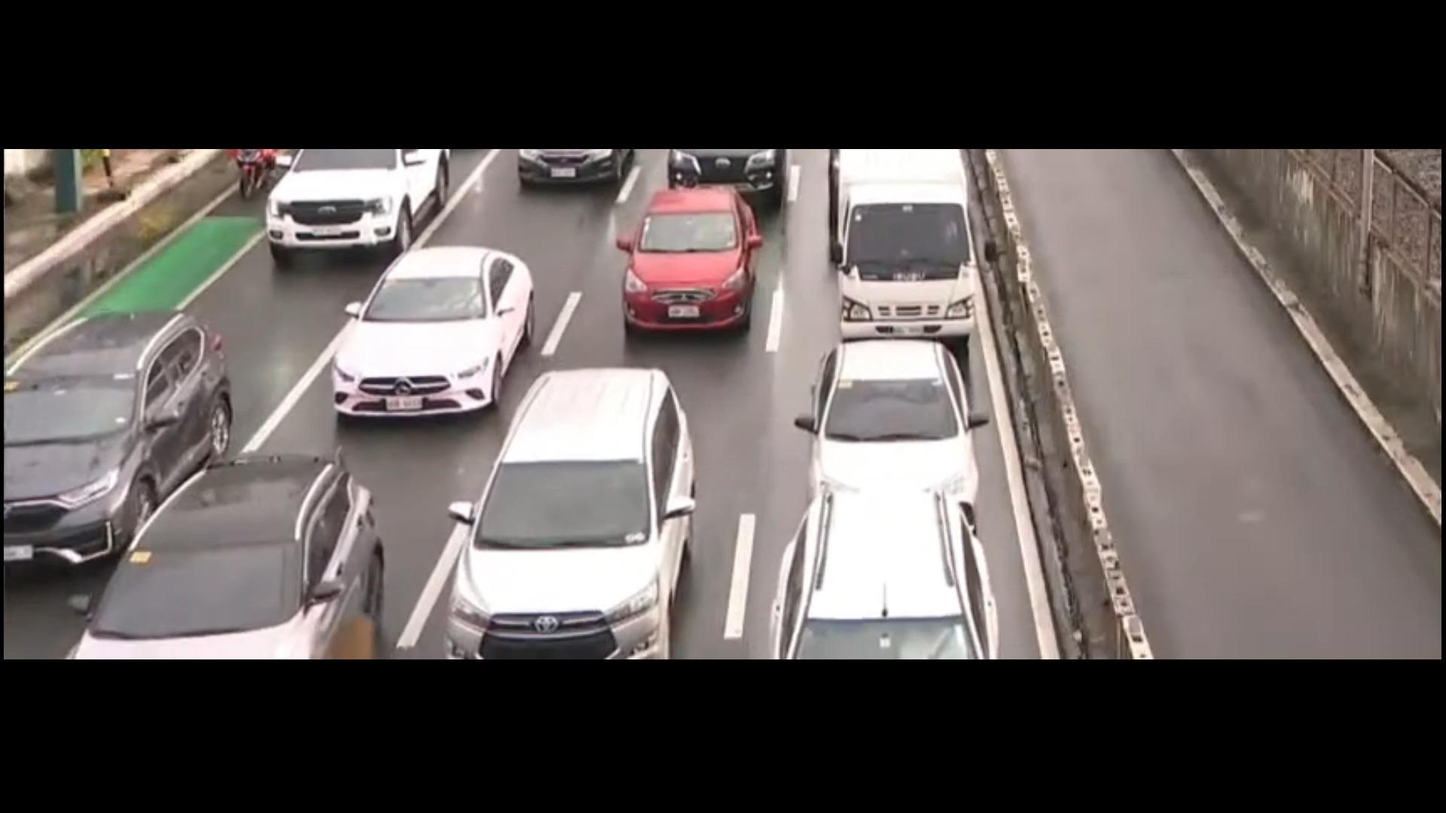SUV: (438, 339, 727, 661), (0, 294, 255, 575), (63, 450, 388, 663), (774, 495, 1015, 658), (247, 146, 457, 271)
Sedan: (298, 239, 560, 435), (813, 330, 991, 509), (582, 187, 778, 343)
Truck: (813, 155, 991, 340)
